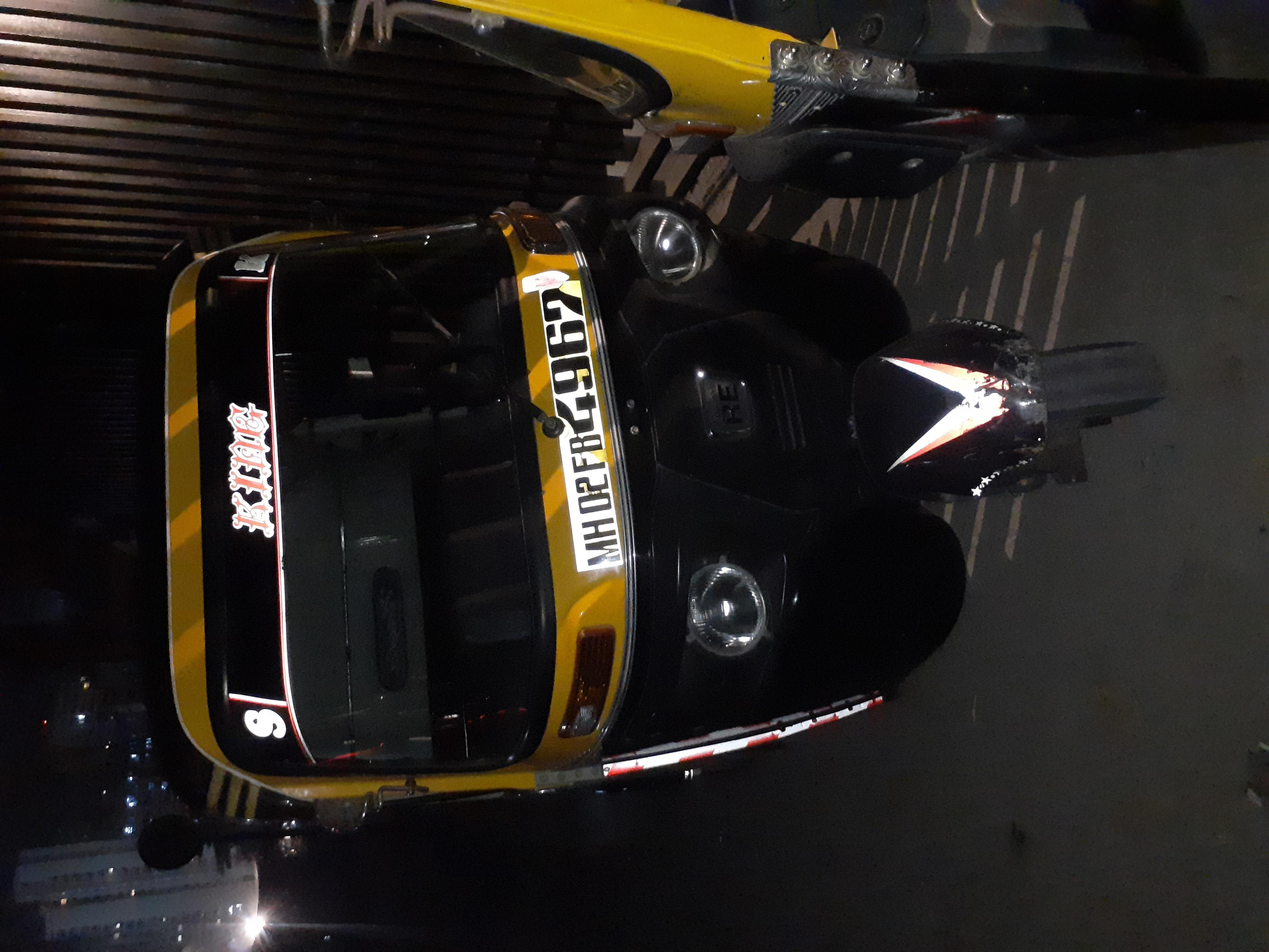number_plate: (504, 401, 895, 468)
